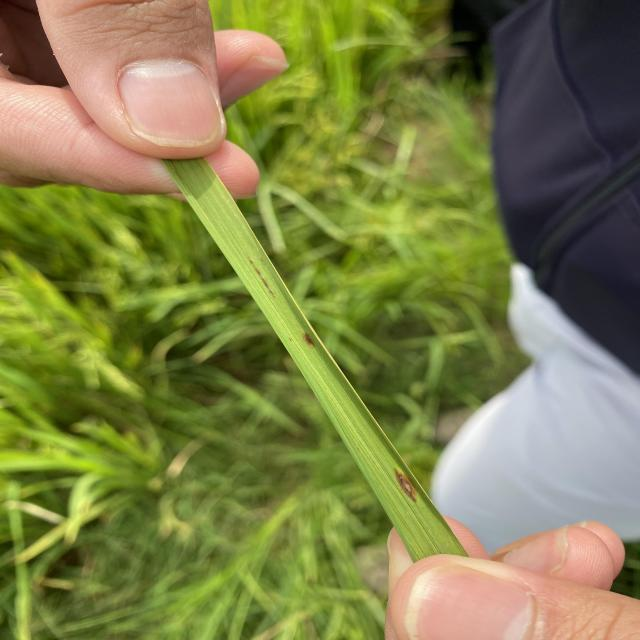Dom nau: (393, 467, 418, 504), (300, 332, 316, 348)
